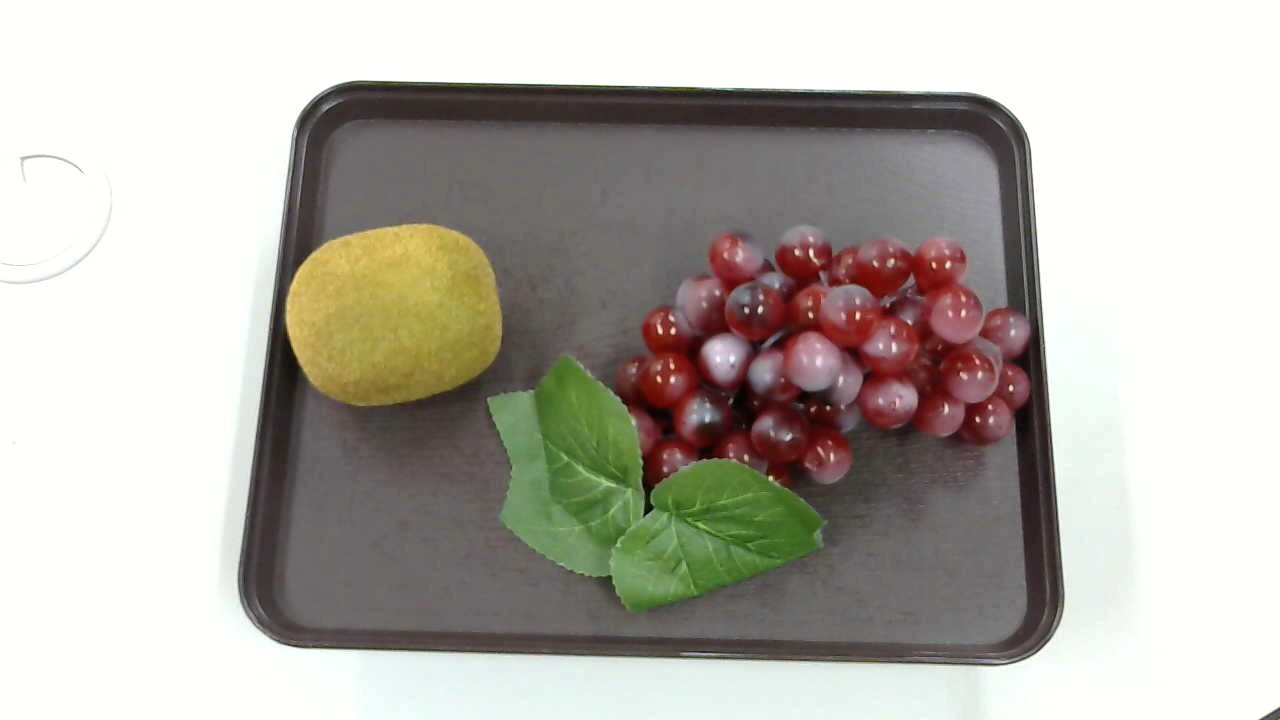grape: (488, 225, 1034, 610)
kiwi fruit: (279, 225, 500, 403)
